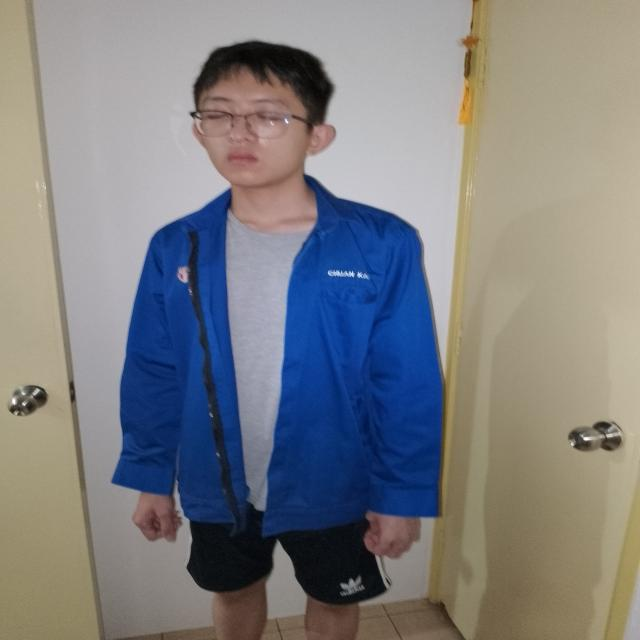person_with_labcoat: (113, 42, 442, 640)
